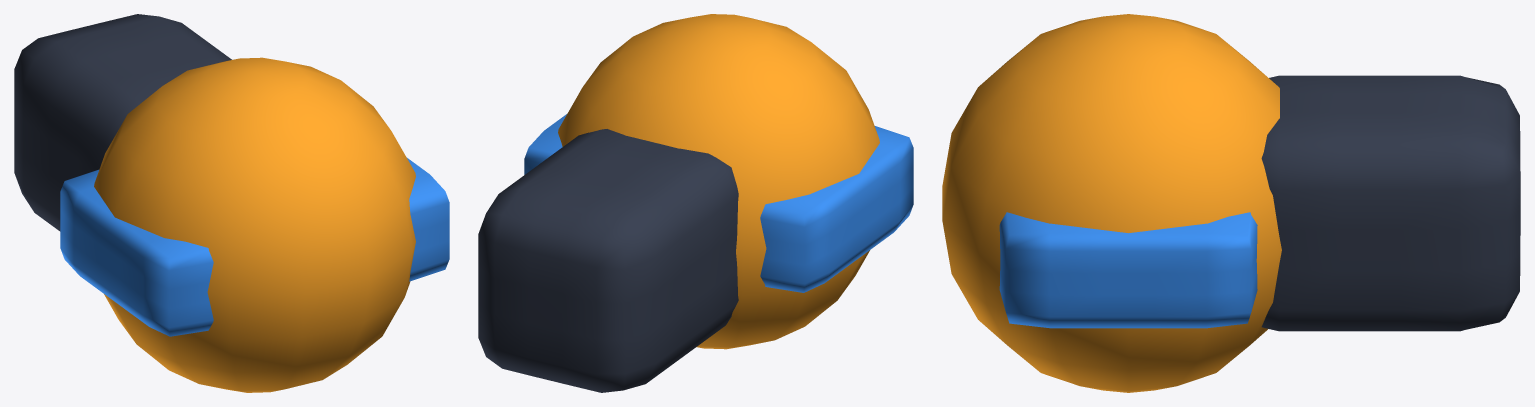
Rendered from glove_gravity.obj.
3 renders of one model, left to right at view 1: azimuth 30°, elevation 25°; view 2: azimuth 150°, elevation 25°; view 3: azimuth 270°, elevation 25°, orthographic. The views are drawn at different scales.
Bounding box in the file's own units: 0.38 × 0.38 × 0.5752.
